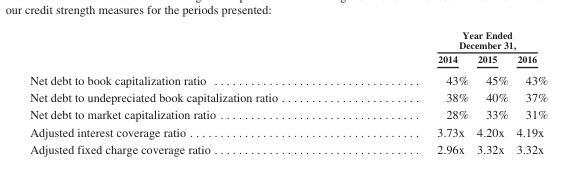table: (29, 28, 547, 155)
table column: (29, 28, 356, 155), (356, 28, 471, 155), (471, 28, 511, 155), (511, 28, 547, 155)
table column header: (29, 28, 547, 68)
table row: (29, 28, 547, 51), (29, 68, 547, 88), (29, 51, 547, 68), (29, 88, 547, 105), (29, 105, 547, 122), (29, 122, 547, 139), (29, 139, 547, 155)
table spanning cell: (356, 28, 547, 51)
